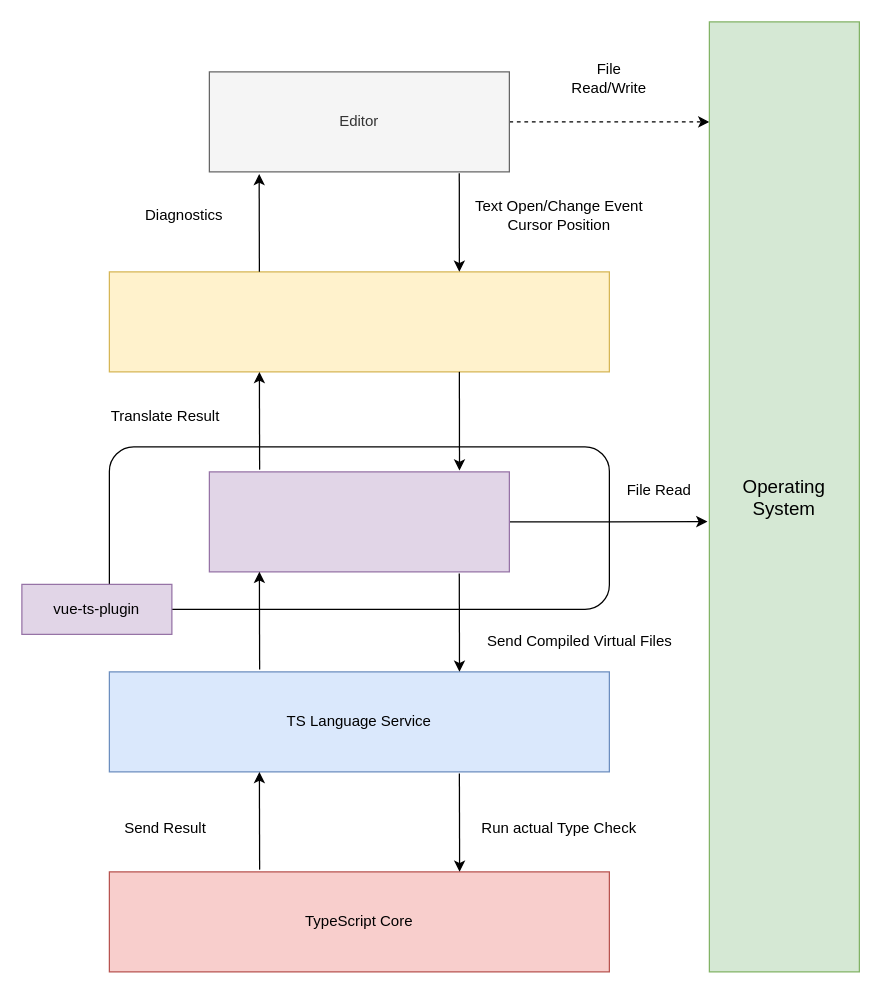
Image size: 881x994. Some labels were removed from this diagram. The shapes that lost their labels are listed below. From the top down, each one's box as (x1, y1, x2, y2) in pixels, then its label:
(108, 271, 609, 372): TS Server
(208, 471, 509, 572): vue-type-audit
